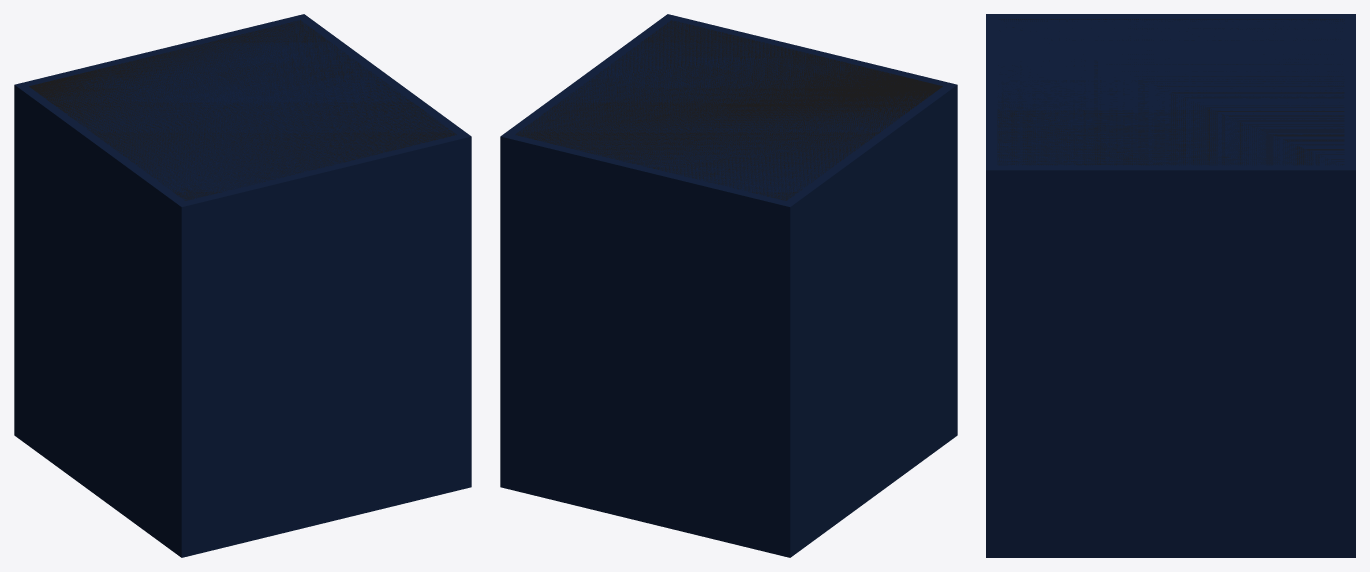
Rendered from folding-table.glb.
The picture shows the model from 3 angles, left to right: view 1: azimuth 30°, elevation 25°; view 2: azimuth 150°, elevation 25°; view 3: azimuth 270°, elevation 25°; orthographic projection. The views are drawn at different scales.
Visible parts, largest first — view 1: folding-table; view 2: folding-table; view 3: folding-table.
Boxes of the visible parts, x1,y1,x2,y2 form: folding-table: (14, 14, 471, 557); folding-table: (500, 14, 957, 557); folding-table: (986, 14, 1355, 557).
Size of the model in its own units: 0.64 by 0.74 by 0.64.
